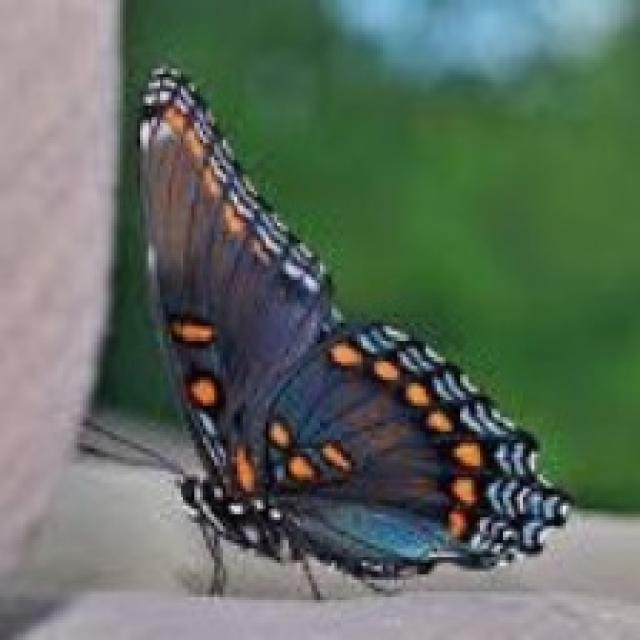butterfly: (71, 60, 574, 600)
